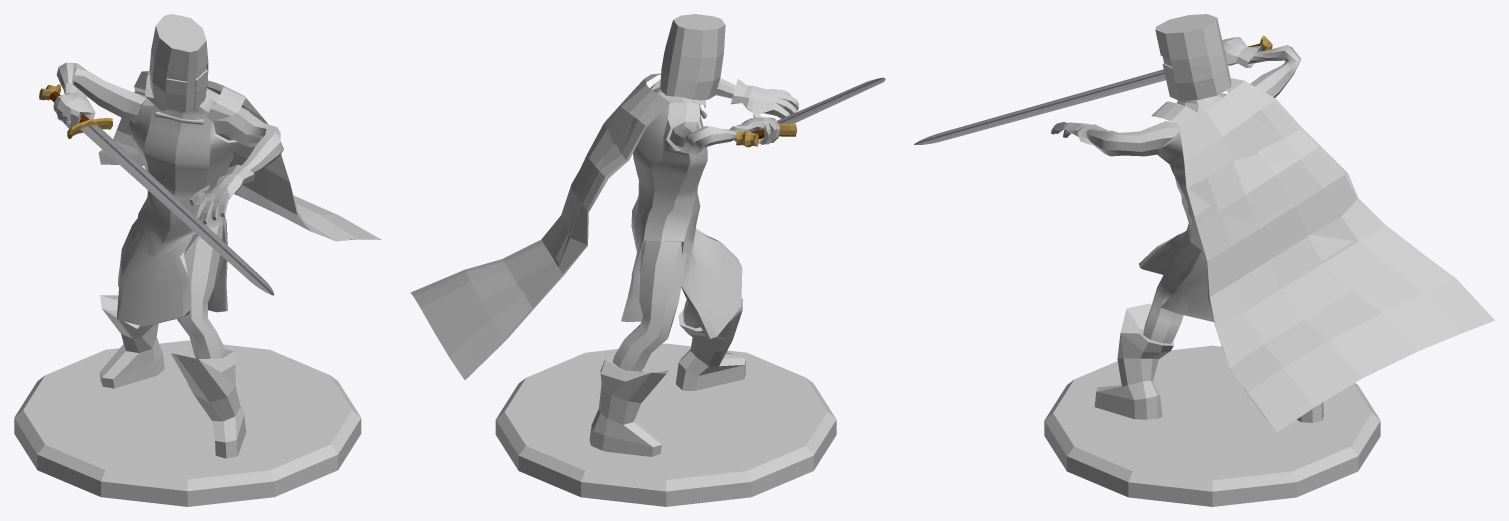
The model's file is Templar_Sword.fbx.
3 renders of one model, left to right at view 1: azimuth 30°, elevation 25°; view 2: azimuth 150°, elevation 25°; view 3: azimuth 270°, elevation 25°, orthographic. The views are drawn at different scales.
Visible parts, largest first — view 1: Templar_SWord, pasted__polySurface20, polySurface16, pasted__pasted__Sword; view 2: pasted__polySurface20, Templar_SWord, polySurface16, pasted__pasted__Sword; view 3: polySurface16, pasted__polySurface20, Templar_SWord, pasted__pasted__Sword.
Boxes of the visible parts, box(x1,y1,x2,y2) form: Templar_SWord: box(53, 14, 283, 458); pasted__polySurface20: box(14, 340, 361, 506); polySurface16: box(98, 70, 381, 241); pasted__pasted__Sword: box(39, 84, 273, 295); pasted__polySurface20: box(495, 343, 836, 506); Templar_SWord: box(589, 14, 798, 456); polySurface16: box(410, 73, 705, 379); pasted__pasted__Sword: box(736, 77, 885, 147); polySurface16: box(1151, 78, 1494, 432); pasted__polySurface20: box(1044, 345, 1380, 506); Templar_SWord: box(1051, 14, 1323, 422); pasted__pasted__Sword: box(914, 35, 1272, 144).
Size of the model in its own units: 251 by 268 by 345.
